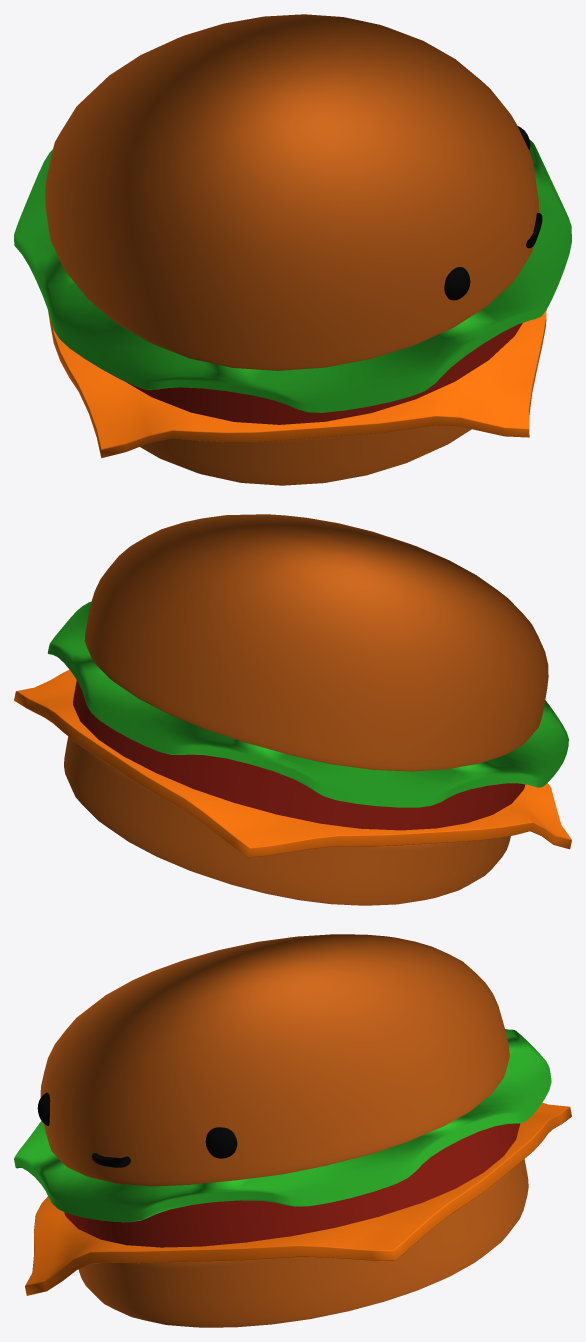
File: cute_hamburger_-_free_3d_model.obj
3 renders of one model, top to bottom at view 1: azimuth 30°, elevation 25°; view 2: azimuth 150°, elevation 25°; view 3: azimuth 270°, elevation 25°, orthographic. The views are drawn at different scales.
Parts seen in each view (by area): view 1: cute_hamburger_-_free_3d_model_0, cute_hamburger_-_free_3d_model_1, cute_hamburger_-_free_3d_model_3, cute_hamburger_-_free_3d_model_2, cute_hamburger_-_free_3d_model_4; view 2: cute_hamburger_-_free_3d_model_0, cute_hamburger_-_free_3d_model_1, cute_hamburger_-_free_3d_model_3, cute_hamburger_-_free_3d_model_2; view 3: cute_hamburger_-_free_3d_model_0, cute_hamburger_-_free_3d_model_1, cute_hamburger_-_free_3d_model_3, cute_hamburger_-_free_3d_model_2, cute_hamburger_-_free_3d_model_4.
Boxes of the visible parts, box(x1,y1,x2,y2) form: cute_hamburger_-_free_3d_model_0: box(45, 14, 539, 485); cute_hamburger_-_free_3d_model_1: box(14, 140, 571, 412); cute_hamburger_-_free_3d_model_3: box(48, 310, 546, 458); cute_hamburger_-_free_3d_model_2: box(127, 323, 522, 424); cute_hamburger_-_free_3d_model_4: box(444, 126, 542, 300); cute_hamburger_-_free_3d_model_0: box(64, 514, 548, 905); cute_hamburger_-_free_3d_model_1: box(47, 601, 568, 807); cute_hamburger_-_free_3d_model_3: box(14, 669, 571, 857); cute_hamburger_-_free_3d_model_2: box(73, 680, 525, 830); cute_hamburger_-_free_3d_model_0: box(40, 934, 528, 1327); cute_hamburger_-_free_3d_model_1: box(14, 1029, 551, 1222); cute_hamburger_-_free_3d_model_3: box(25, 1102, 571, 1295); cute_hamburger_-_free_3d_model_2: box(64, 1123, 520, 1247); cute_hamburger_-_free_3d_model_4: box(37, 1092, 237, 1167).
Bounding box in the file's own units: 3.32 × 2.16 × 3.34.
